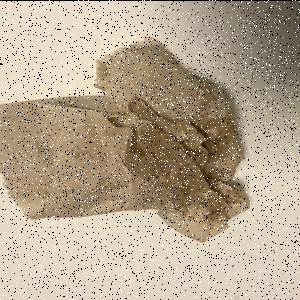Trash: (2, 36, 251, 244)
